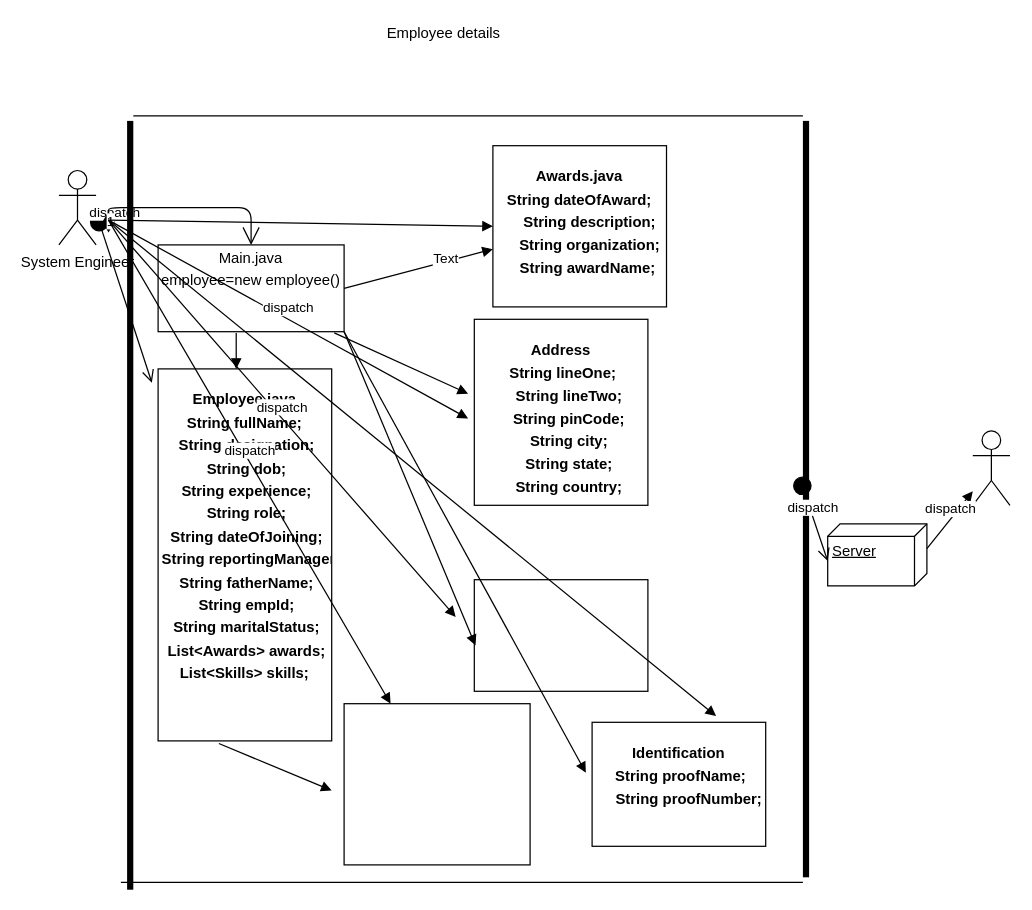
This 1032x910 diagram has some shape labels left out. Here are the shapes that lost their labels. From the top down, the centre of each, then its label:
point (991, 467): User
point (560, 634): Skills.java String skillName; String expertiseLevel; String years;
point (436, 783): Contact.java String phoneNumber; String alternateNumber; String whatsappNumber;
